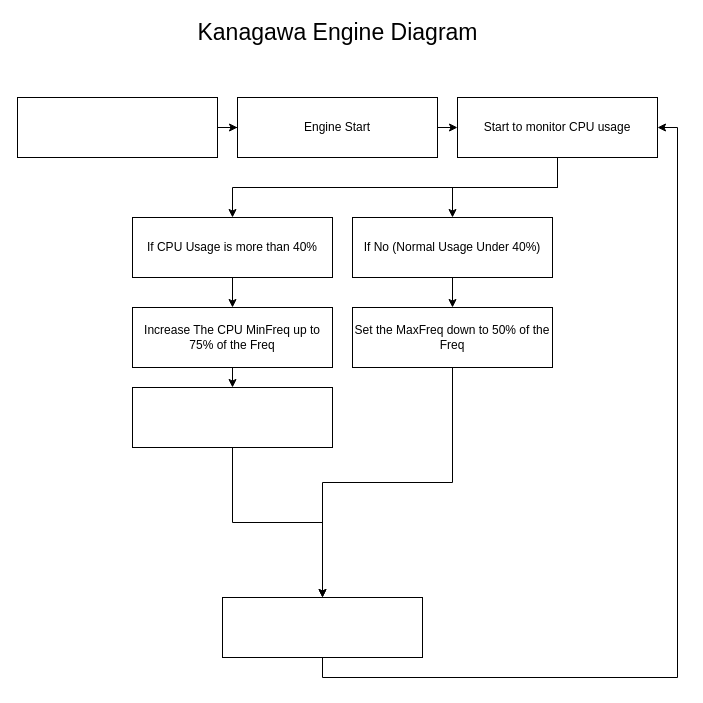
The diagram is 703 pixels wide and 703 high, and some of its shapes have lost their labels. Each missing label, with the centre of its shape:
"CPU Usage Become Normal" goes at (232,417).
"Repeat with loop on 5 seconds to avoid overhead" goes at (322,627).
"System Start" goes at (117,127).
